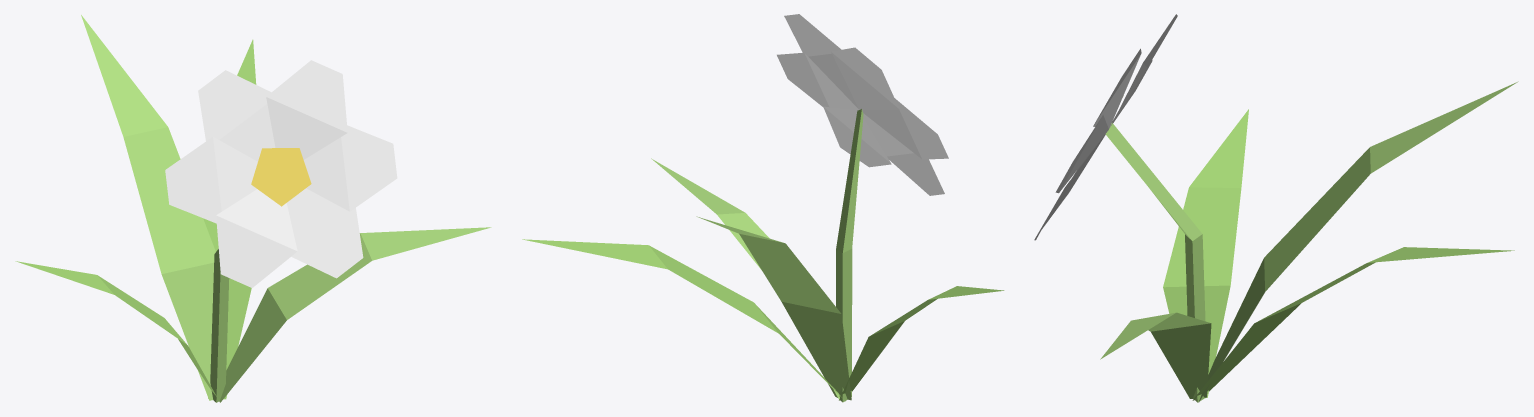
Rendered from Flower_e_OneS_10.fbx.
The picture shows the model from 3 angles, left to right: view 1: azimuth 30°, elevation 25°; view 2: azimuth 150°, elevation 25°; view 3: azimuth 270°, elevation 25°; orthographic projection. The views are drawn at different scales.
Parts seen in each view (by area): view 1: Flower_e_OneS_10; view 2: Flower_e_OneS_10; view 3: Flower_e_OneS_10.
Boxes of the visible parts, x1,y1,x2,y2 form: Flower_e_OneS_10: (15,15,491,402); Flower_e_OneS_10: (522,14,1004,402); Flower_e_OneS_10: (1034,14,1518,402).
Size of the model in its own units: 41.88 by 33.12 by 37.45.
